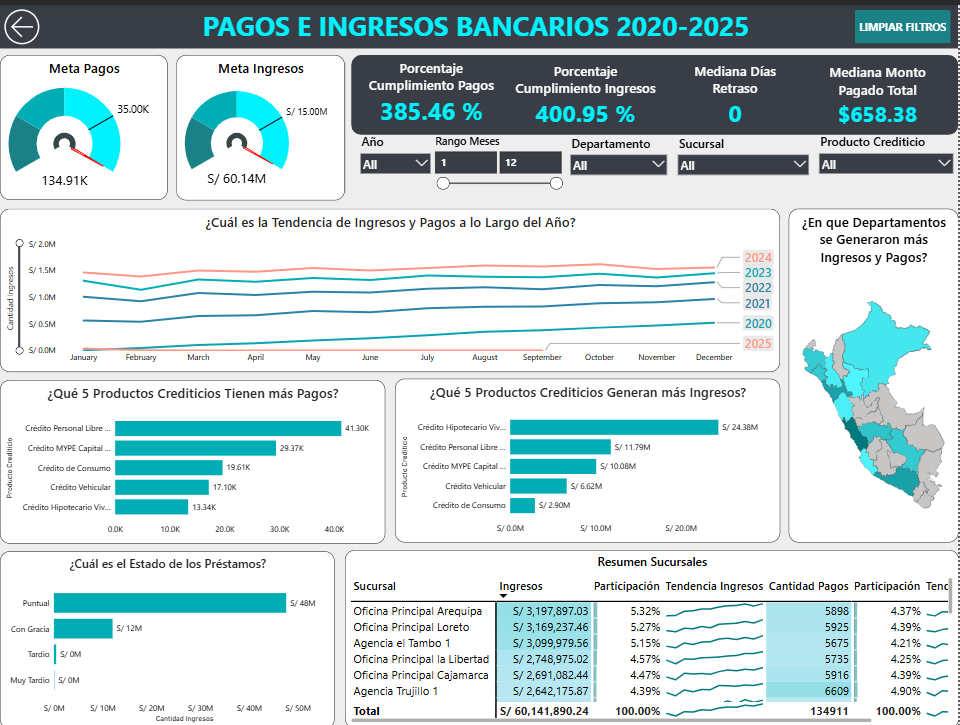

Layout of this report page (visuals, bound fields, positions):
{"tool":"powerbi","page":{"name":"Pagos-Ingresos Bancarios","canvas":[1920,1450],"ordinal":1},"visuals":[{"type":"slicer","fields":{"Values":["dim_fechas.Año"]},"box":[711.6,253.9,161.7,125],"z":0},{"type":"slicer","fields":{"Values":["dim_fechas.Numero Mes"]},"box":[865.4,259.3,266.4,171.7],"z":1000},{"type":"slicer","fields":{"Values":["dim_sucursales.departamento"]},"box":[1131.8,255.7,215,136.7],"z":2000},{"type":"slicer","fields":{"Values":["dim_sucursales.nombre_sucursal"]},"box":[1346.7,255,283.3,135],"z":3000},{"type":"slicer","fields":{"Values":["dim_productos_crediticios.nombre_producto"]},"box":[1630,253.3,290,130],"z":4000},{"type":"shape","box":[0,0,1920,87.1],"z":5000},{"type":"textbox","box":[399.9,0,1120.2,88.2],"z":6000},{"type":"clusteredBarChart","title":"¿Cuál es el Estado de los Préstamos?","fields":{"Category":["fact_pagos.estado_pago"],"Y":["Metricas.Cantidad Ingresos"]},"box":[0,1094.3,670.5,355.8],"z":8000},{"type":"pivotTable","title":"Resumen Sucursales","fields":{"Rows":["dim_sucursales.nombre_sucursal"],"Values":["Metricas.Cantidad Ingresos","Divide(Metricas.Cantidad Ingresos, ScopedEval(Metricas.Cantidad Ingresos, []))","SparklineData(Metricas.Cantidad Ingresos_[dim_fechas.Numero Mes])","Count(fact_pagos.referencia_pago)","Divide(Count(fact_pagos.referencia_pago), ScopedEval(Count(fact_pagos.referencia_pago), []))","SparklineData(Count(fact_pagos.referencia_pago)_[dim_fechas.Numero Mes])"]},"box":[690.2,1092.1,1230.2,357.6],"z":9000},{"type":"clusteredBarChart","title":"¿Qué 5 Productos Crediticios Tienen más Pagos?","fields":{"Category":["dim_productos_crediticios.nombre_producto"],"Y":["Count(fact_pagos.referencia_pago)"]},"box":[0,750.4,772,328],"z":10000},{"type":"shape","box":[703.3,100,1216.7,160],"z":12000},{"type":"Tachometer1474636471549","title":"Meta Ingresos","fields":{"Y":["Metricas.Cantidad Ingresos"],"TargetValue":["Valores Termometro Ingresos.META INGRESOS"],"StartValue":["Valores Termometro Ingresos.valor_inicio_termo_ingre"],"EndValue":["Valores Termometro Ingresos.valor_final_termo_ingreso"],"Range2StartValue":["Valores Termometro Ingresos.inicio_rango_2_termo_ingresos"],"Range3StartValue":["Valores Termometro Ingresos.inicio_rango_3_termo_ingresos"]},"box":[352.2,100.1,337.9,291.5],"z":13000},{"type":"lineChart","title":"¿Cuál es la Tendencia de Ingresos y Pagos a lo Largo del Año?","fields":{"Category":["dim_fechas.Nombre Mes"],"Series":["dim_fechas.Año"],"Y":["Metricas.Cantidad Ingresos"]},"box":[0,408.5,1563.1,326.8],"z":14000},{"type":"shapeMap","title":"¿En que Departamentos se Generaron más Ingresos y Pagos?","fields":{"Category":["dim_sucursales.departamento"],"Value":["Metricas.Cantidad Ingresos"]},"box":[1580.6,407.7,339.7,668.7],"z":15000},{"type":"clusteredBarChart","title":"¿Qué 5 Productos Crediticios Generan más Ingresos?","fields":{"Category":["dim_productos_crediticios.nombre_producto"],"Y":["Metricas.Cantidad Ingresos"]},"box":[792,750,772,328],"z":16000},{"type":"Tachometer1474636471549","title":"Meta Pagos","fields":{"Y":["Count(fact_pagos.referencia_pago)"],"TargetValue":["Valores Termometro Pagos.META PAGOS"],"StartValue":["Valores Termometro Pagos.valor_inicio_termo_pagos"],"EndValue":["Valores Termometro Pagos.valor_final_termo_pagos"],"Range2StartValue":["Valores Termometro Pagos.inicio_rango_2_termo_pagos"],"Range3StartValue":["Valores Termometro Pagos.inicio_rango_3_termo_pagos"]},"box":[0,100,336,290],"z":17000},{"type":"cardVisual","fields":{"Data":["Metricas.kpi_porcentaje_cumplimiento_pagos"]},"box":[703.3,100,321.7,160],"z":18000},{"type":"cardVisual","fields":{"Data":["Metricas.kpi_porcentaje_cumplimiento_ingresos"]},"box":[998.3,100,348.3,160],"z":19000},{"type":"cardVisual","fields":{"Data":["Median(fact_pagos.dias_retraso)"]},"box":[1346.7,100,251.7,160],"z":20000},{"type":"cardVisual","fields":{"Data":["Median(fact_pagos.rec_monto_pagado_total)"]},"box":[1598.3,100,321.7,160],"z":21000},{"type":"actionButton","box":[1714.7,10.7,191.3,66.2],"z":22000},{"type":"actionButton","box":[0,0,98.3,87.6],"z":23000}]}

Visuals, with their boxes in screenshot pixels (x1, y1, x2, y2), scaled from the page's 1920x1450 canvas onto the 960x725 screenshot:
slicer - dim_fechas.Año: {"left": 356, "top": 127, "right": 437, "bottom": 189}
slicer - dim_fechas.Numero Mes: {"left": 433, "top": 130, "right": 566, "bottom": 216}
slicer - dim_sucursales.departamento: {"left": 566, "top": 128, "right": 673, "bottom": 196}
slicer - dim_sucursales.nombre_sucursal: {"left": 673, "top": 128, "right": 815, "bottom": 195}
slicer - dim_productos_crediticios.nombre_producto: {"left": 815, "top": 127, "right": 959, "bottom": 192}
shape: {"left": 0, "top": 0, "right": 959, "bottom": 44}
textbox: {"left": 200, "top": 0, "right": 760, "bottom": 44}
"¿Cuál es el Estado de los Préstamos?" clusteredBarChart: {"left": 0, "top": 547, "right": 335, "bottom": 724}
"Resumen Sucursales" pivotTable: {"left": 345, "top": 546, "right": 959, "bottom": 724}
"¿Qué 5 Productos Crediticios Tienen más Pagos?" clusteredBarChart: {"left": 0, "top": 375, "right": 386, "bottom": 539}
shape: {"left": 352, "top": 50, "right": 959, "bottom": 130}
"Meta Ingresos" Tachometer1474636471549: {"left": 176, "top": 50, "right": 345, "bottom": 196}
"¿Cuál es la Tendencia de Ingresos y Pagos a lo Largo del Año?" lineChart: {"left": 0, "top": 204, "right": 782, "bottom": 368}
"¿En que Departamentos se Generaron más Ingresos y Pagos?" shapeMap: {"left": 790, "top": 204, "right": 959, "bottom": 538}
"¿Qué 5 Productos Crediticios Generan más Ingresos?" clusteredBarChart: {"left": 396, "top": 375, "right": 782, "bottom": 539}
"Meta Pagos" Tachometer1474636471549: {"left": 0, "top": 50, "right": 168, "bottom": 195}
cardVisual - Metricas.kpi_porcentaje_cumplimiento_pagos: {"left": 352, "top": 50, "right": 512, "bottom": 130}
cardVisual - Metricas.kpi_porcentaje_cumplimiento_ingresos: {"left": 499, "top": 50, "right": 673, "bottom": 130}
cardVisual - Median(fact_pagos.dias_retraso): {"left": 673, "top": 50, "right": 799, "bottom": 130}
cardVisual - Median(fact_pagos.rec_monto_pagado_total): {"left": 799, "top": 50, "right": 959, "bottom": 130}
actionButton: {"left": 857, "top": 5, "right": 953, "bottom": 38}
actionButton: {"left": 0, "top": 0, "right": 49, "bottom": 44}
